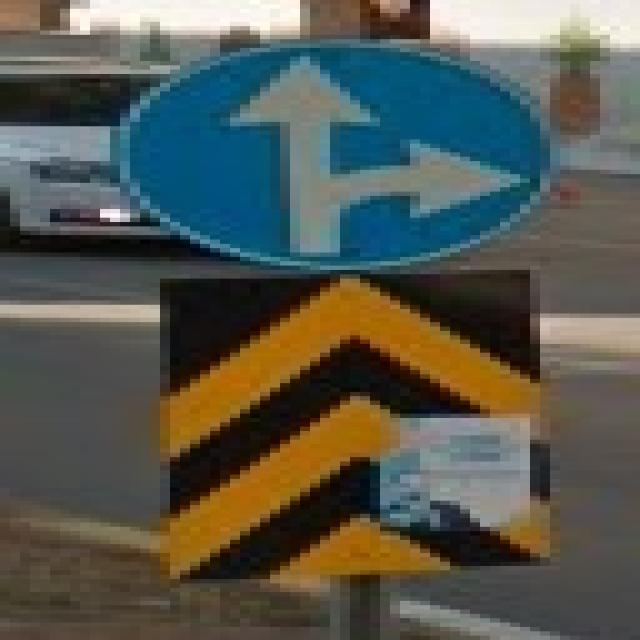Straight or Right: (121, 40, 541, 267)
